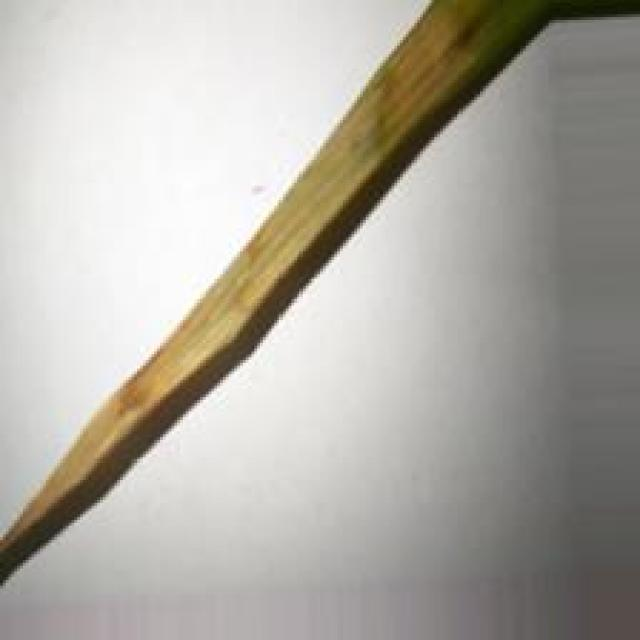Leaf_Scald: (7, 18, 478, 547)
